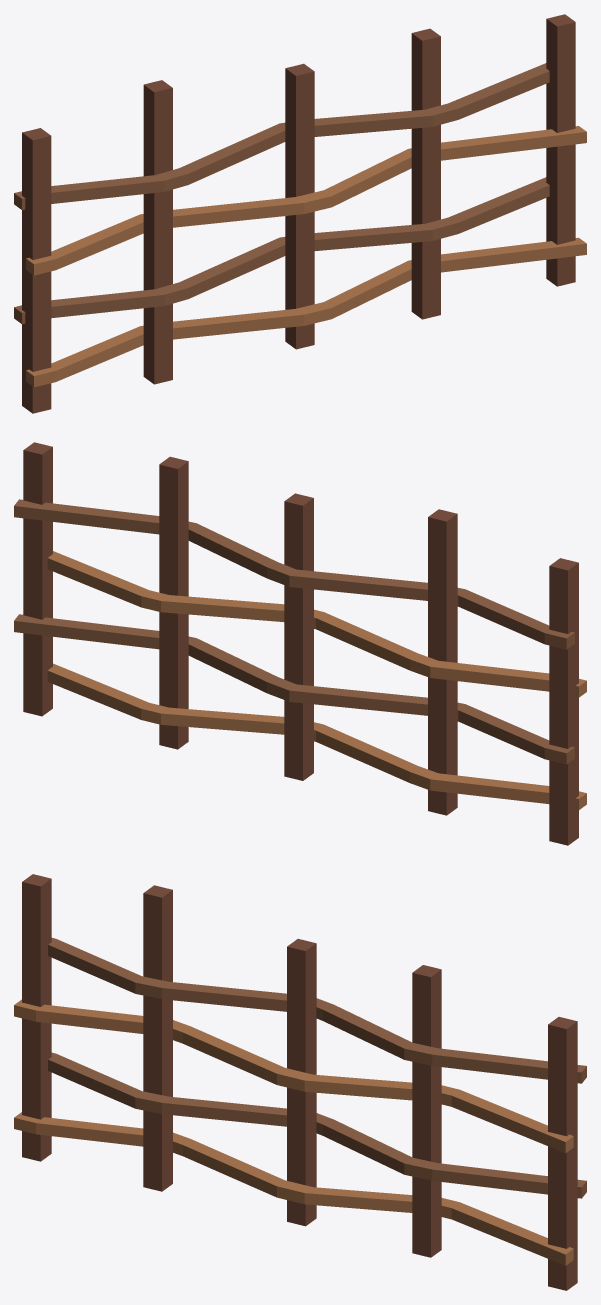
Rendered from fence_tin.fbx.
The picture shows the model from 3 angles, top to bottom: view 1: azimuth 30°, elevation 25°; view 2: azimuth 150°, elevation 25°; view 3: azimuth 330°, elevation 25°; orthographic projection.
Parts seen in each view (by area): view 1: Cube; view 2: Cube; view 3: Cube.
Boxes of the visible parts, left/top/right/bottom form: Cube: left=14, top=14, right=586, bottom=413; Cube: left=14, top=442, right=586, bottom=845; Cube: left=14, top=874, right=586, bottom=1290.
Bounding box in the file's own units: 133 × 67.68 × 12.76.
